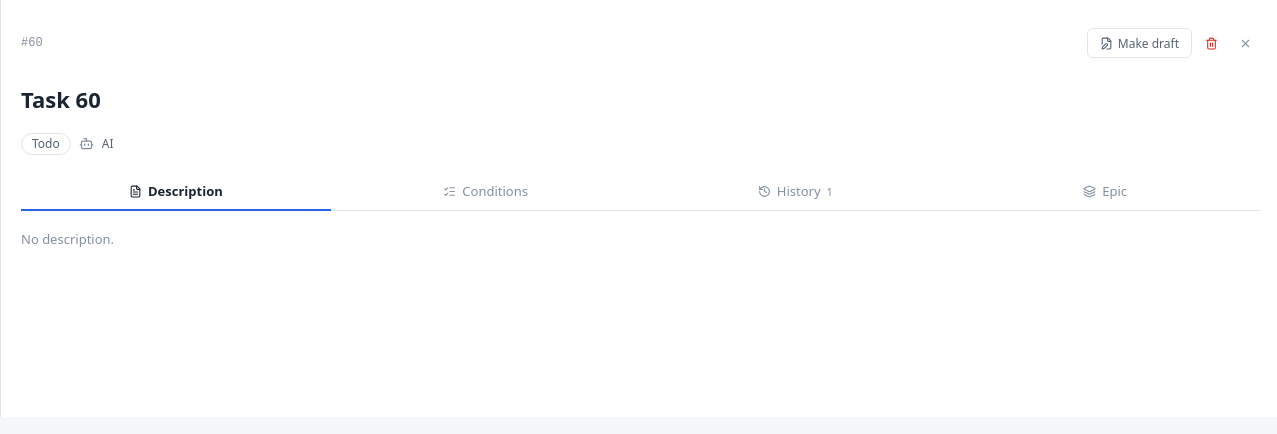
Test: epic tab › says that a task without an epic belongs to none
The width and height of the screenshot is (1277, 434).
Click the tab "Epic".
click(1105, 192)  # box x1=950 y1=173 x2=1260 y2=211
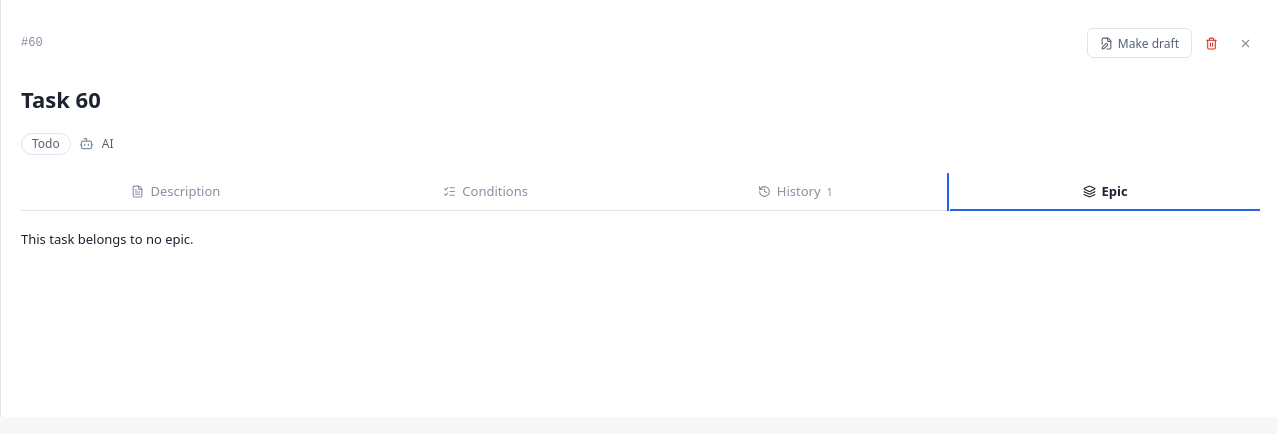
Expected: the text "This task belongs to no epic." is shown, x1=21 y1=230 x2=194 y2=248
